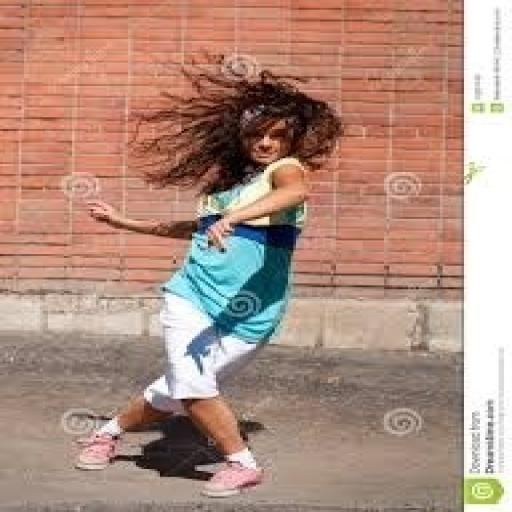dancing: (69, 53, 344, 498)
